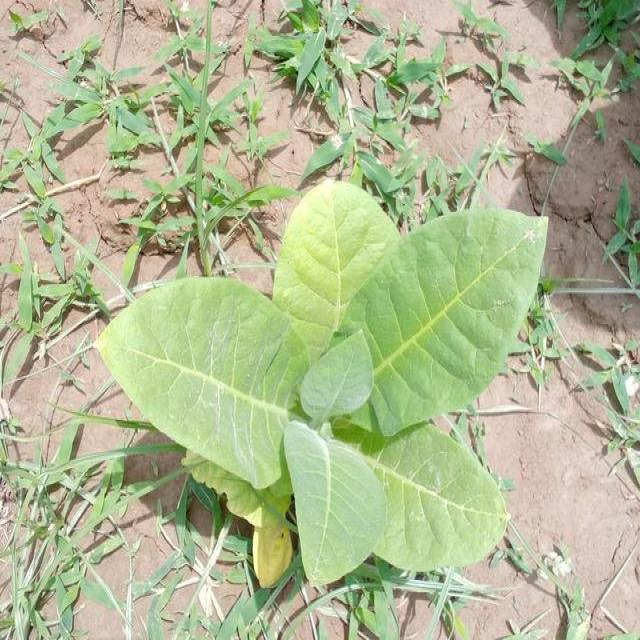crop: (98, 176, 547, 583)
